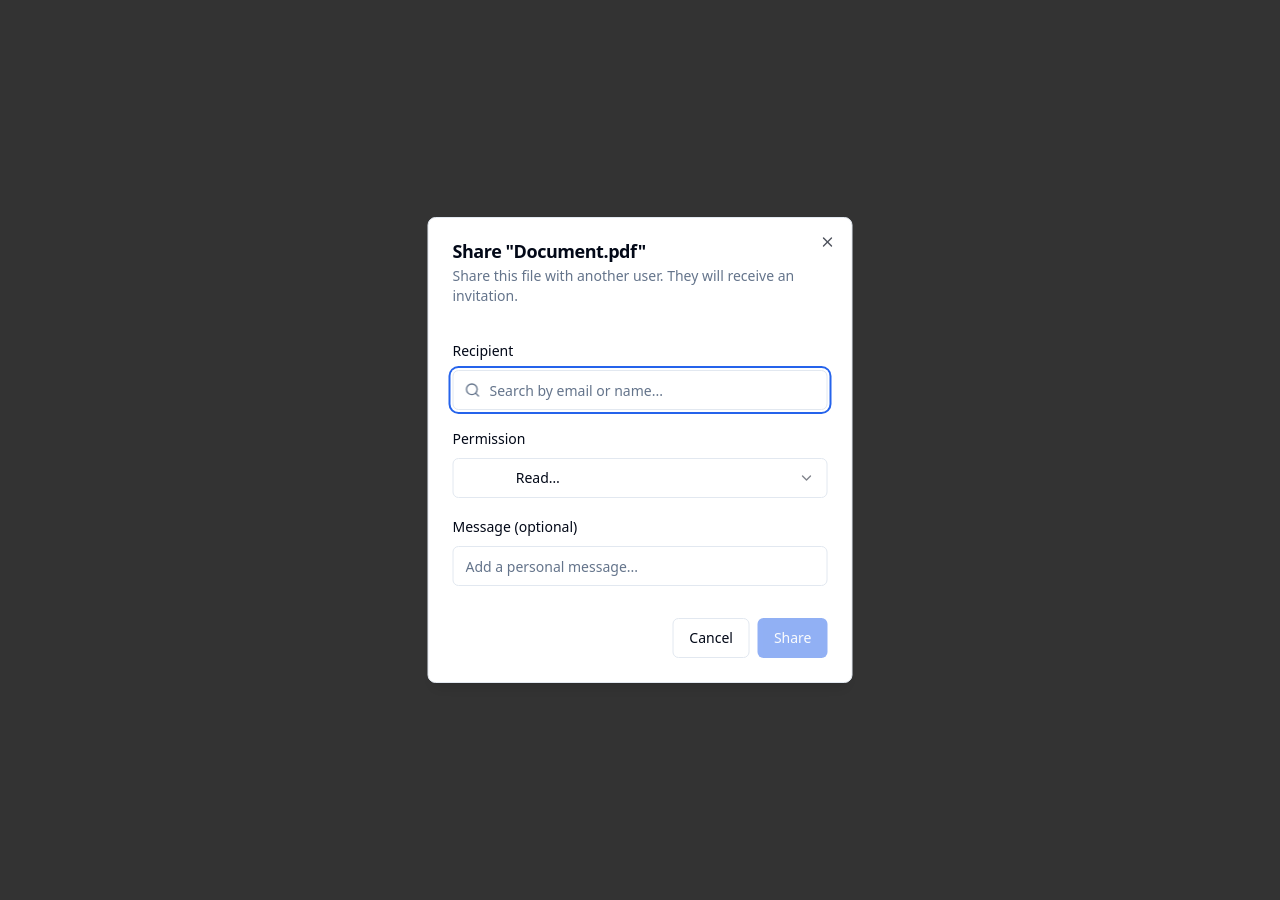
ShareDialog › should enable share button when recipient entered
Type "test@example.com" into the field with placeholder "Search by email or name...".
click(640, 390); type("test@example.com")  # box [452,370,828,410]
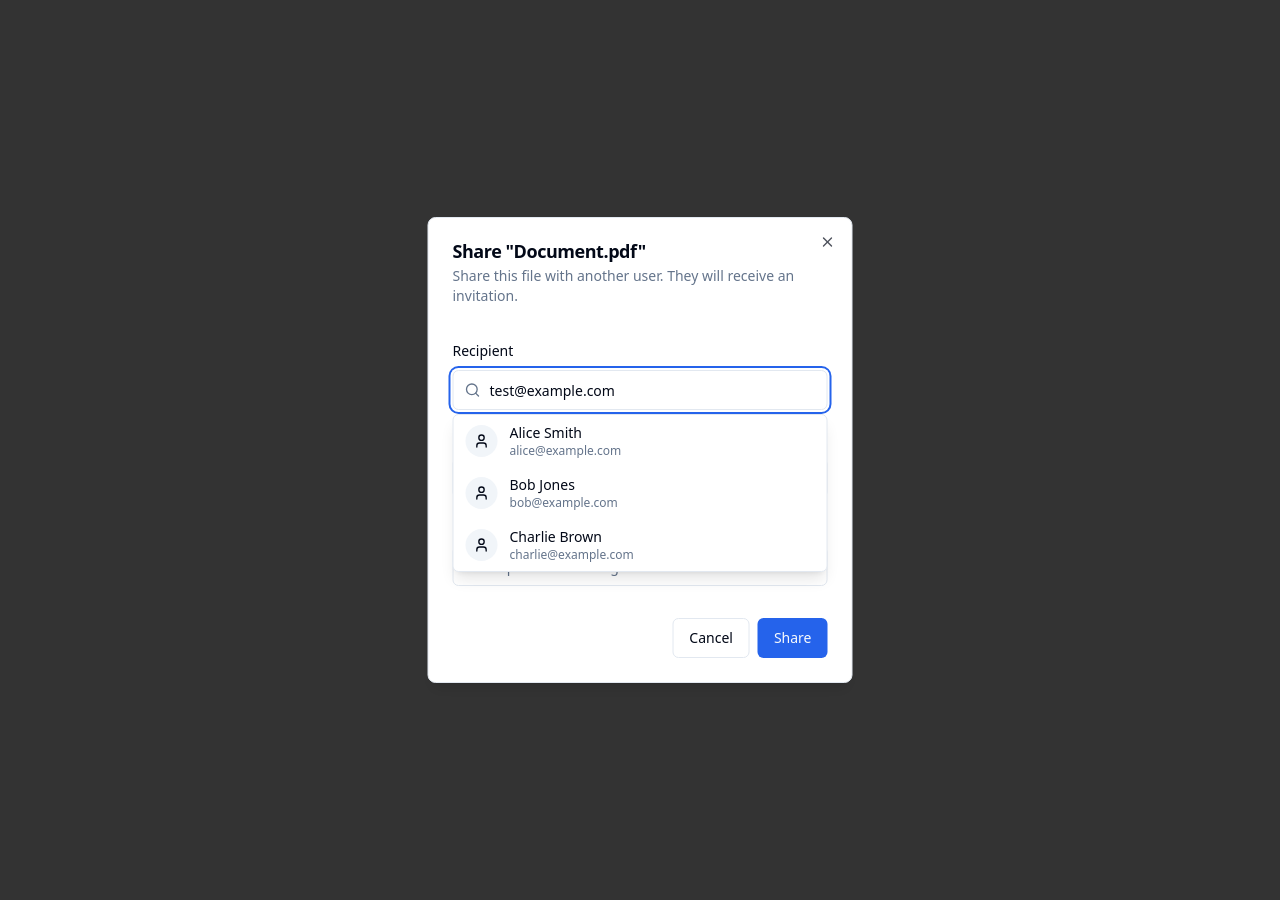
Now the button "Share" is enabled, box [758,618,828,658]
